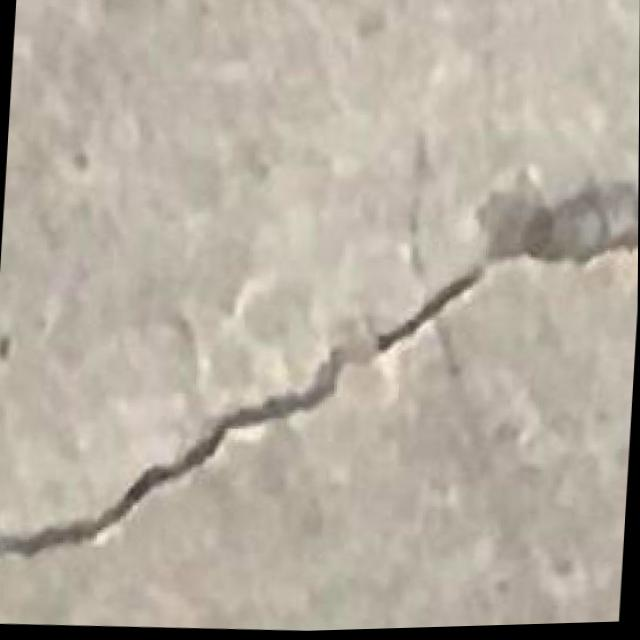Crack: (0, 148, 639, 603)
